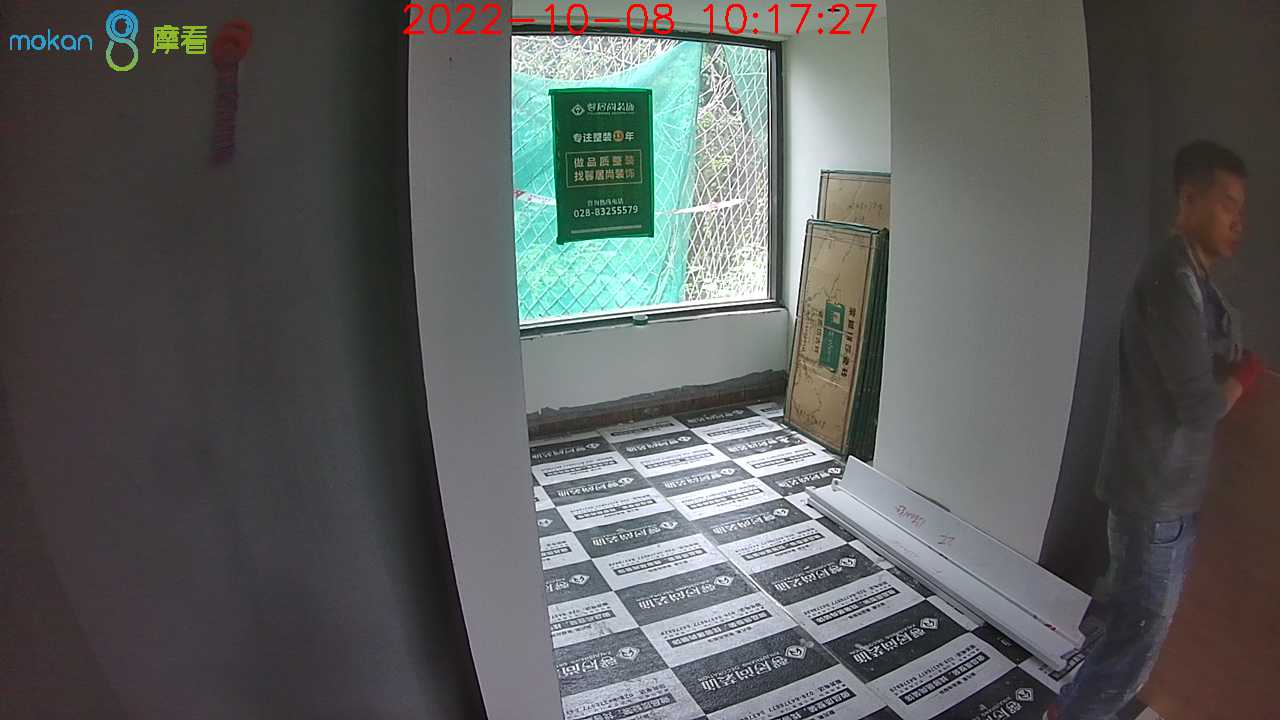people: (1073, 118, 1263, 720)
window: (502, 16, 789, 315)
